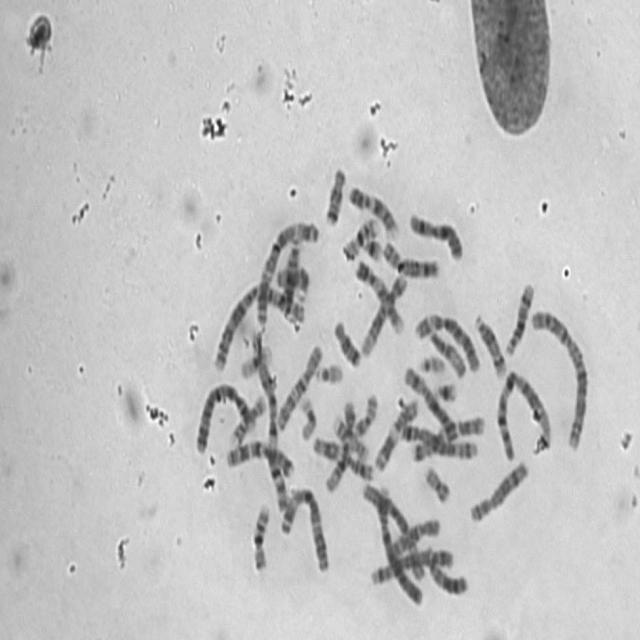A1: (246, 329, 288, 513), (492, 361, 553, 462)
A2: (208, 274, 309, 374), (526, 300, 590, 452)
A3: (252, 212, 321, 328), (276, 479, 331, 575)
B4: (364, 476, 431, 612), (190, 374, 256, 455)
B5: (366, 539, 456, 588), (395, 419, 482, 466)
C10: (272, 335, 324, 433), (388, 512, 441, 556)
C11: (370, 390, 420, 473), (308, 428, 375, 482)
C12: (357, 267, 408, 359), (326, 396, 356, 495)
C6: (358, 473, 425, 582), (410, 304, 483, 375)
C7: (412, 411, 484, 469), (221, 433, 296, 478)
C8: (464, 452, 531, 525), (378, 232, 442, 280)
C9: (350, 252, 405, 336), (344, 177, 400, 240)
D13: (422, 546, 470, 598), (280, 237, 306, 321)
D14: (500, 273, 536, 358), (470, 306, 508, 378)
D15: (421, 316, 468, 378), (271, 263, 313, 306)
E16: (338, 210, 380, 262), (247, 496, 271, 574)
E17: (226, 388, 268, 446), (329, 407, 370, 462)
E18: (319, 158, 347, 227), (329, 311, 362, 369)
F19: (236, 337, 273, 380), (294, 388, 318, 442)
F20: (350, 385, 379, 438), (420, 458, 452, 504)
G21: (430, 373, 458, 404), (359, 229, 383, 261)
G22: (310, 355, 344, 385), (414, 346, 447, 375)
X: (399, 358, 459, 444), (405, 204, 465, 262)
